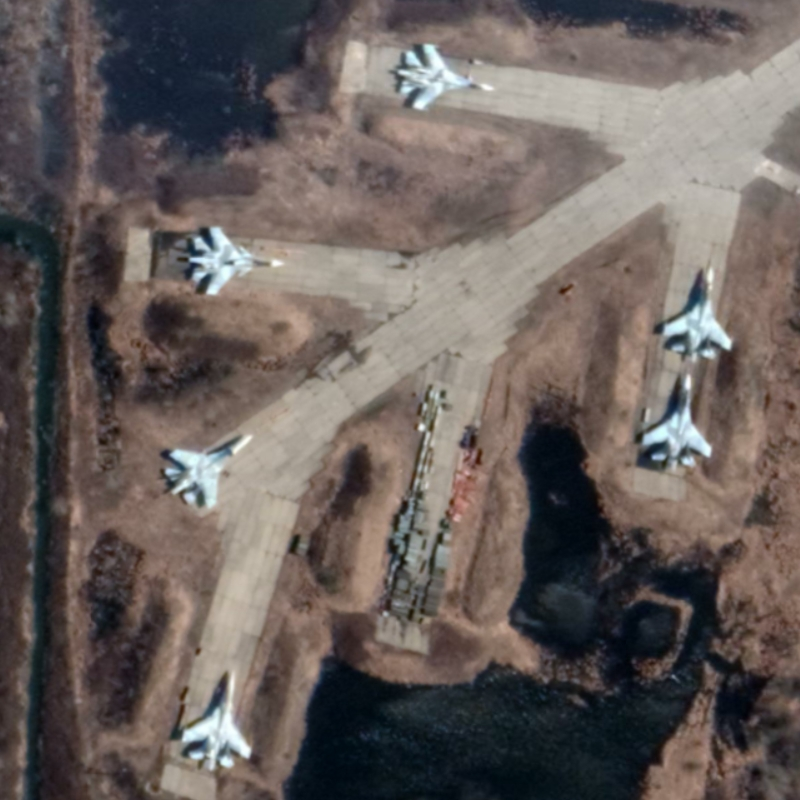A1: (178, 668, 256, 773), (639, 370, 715, 475), (659, 264, 736, 367), (159, 430, 255, 510), (392, 40, 495, 114)
A19: (187, 224, 288, 298)
